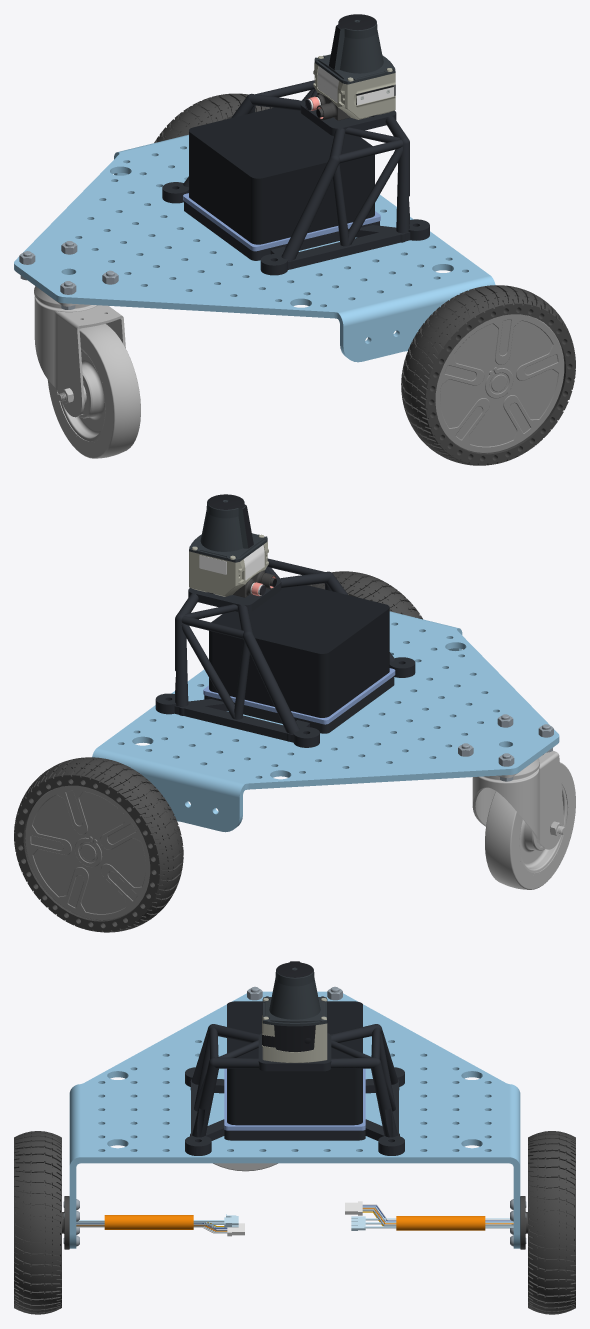
File: botwheel_pc_lidar_assembly.glb
3 views of the same model, one above another, from view 1: azimuth 30°, elevation 25°; view 2: azimuth 150°, elevation 25°; view 3: azimuth 270°, elevation 25° (orthographic). The views are drawn at different scales.
Parts seen in each view (by area): view 1: botwheel_explorer/Botwheel 2 Wheel Frame 500, minisforum_um890_pro_ref, botwheel_explorer/ODrive Botwheel <1>/ÂÖì±, pc_lidar_canopy, botwheel_explorer/ODrive Botwheel <1>/WHO.105002Ïð½ºÂÖÌ¥×°Åä, sick_tim781/NAUO1/NAUO2, botwheel_explorer/Part 1, botwheel_explorer/Part 52, botwheel_explorer/Part 2, botwheel_explorer/ODrive Botwheel <2>/WHO.105002Ïð½ºÂÖÌ¥×°Åä, um890_table_mount_stl_ref, sick_tim781/NAUO1/NAUO3; view 2: botwheel_explorer/Botwheel 2 Wheel Frame 500, minisforum_um890_pro_ref, botwheel_explorer/ODrive Botwheel <2>/ÂÖì±, pc_lidar_canopy, botwheel_explorer/ODrive Botwheel <2>/WHO.105002Ïð½ºÂÖÌ¥×°Åä, sick_tim781/NAUO1/NAUO2, botwheel_explorer/Part 52, botwheel_explorer/Part 1, botwheel_explorer/ODrive Botwheel <1>/WHO.105002Ïð½ºÂÖÌ¥×°Åä, botwheel_explorer/Part 2, um890_table_mount_stl_ref, sick_tim781/NAUO1/NAUO3; view 3: botwheel_explorer/Botwheel 2 Wheel Frame 500, pc_lidar_canopy, minisforum_um890_pro_ref, botwheel_explorer/ODrive Botwheel <2>/WHO.105002Ïð½ºÂÖÌ¥×°Åä, botwheel_explorer/ODrive Botwheel <1>/WHO.105002Ïð½ºÂÖÌ¥×°Åä, sick_tim781/NAUO1/NAUO2, botwheel_explorer/ODrive Botwheel <2>/LEW.105017--11P¶Ë×ÓÏß  (×2), botwheel_explorer/ODrive Botwheel <1>/LEW.105017--11P¶Ë×ÓÏß  (×2), um890_table_mount_stl_ref.
Part boxes in pixels (<box>): botwheel_explorer/Botwheel 2 Wheel Frame 500: <box>14,134,495,362</box>; minisforum_um890_pro_ref: <box>189,100,374,244</box>; botwheel_explorer/ODrive Botwheel <1>/ÂÖì±: <box>435,314,564,453</box>; pc_lidar_canopy: <box>162,80,429,275</box>; botwheel_explorer/ODrive Botwheel <1>/WHO.105002Ïð½ºÂÖÌ¥×°Åä: <box>401,285,575,465</box>; sick_tim781/NAUO1/NAUO2: <box>313,14,395,119</box>; botwheel_explorer/Part 1: <box>47,324,140,458</box>; botwheel_explorer/Part 52: <box>34,296,125,417</box>; botwheel_explorer/Part 2: <box>56,346,106,443</box>; botwheel_explorer/ODrive Botwheel <2>/WHO.105002Ïð½ºÂÖÌ¥×°Åä: <box>154,93,272,142</box>; um890_table_mount_stl_ref: <box>183,193,380,251</box>; sick_tim781/NAUO1/NAUO3: <box>305,92,350,120</box>; botwheel_explorer/Botwheel 2 Wheel Frame 500: <box>92,611,559,832</box>; minisforum_um890_pro_ref: <box>209,578,389,717</box>; botwheel_explorer/ODrive Botwheel <2>/ÂÖì±: <box>25,785,150,920</box>; pc_lidar_canopy: <box>155,558,415,747</box>; botwheel_explorer/ODrive Botwheel <2>/WHO.105002Ïð½ºÂÖÌ¥×°Åä: <box>14,757,183,932</box>; sick_tim781/NAUO1/NAUO2: <box>189,494,268,596</box>; botwheel_explorer/Part 52: <box>472,750,563,849</box>; botwheel_explorer/Part 1: <box>485,762,575,889</box>; botwheel_explorer/ODrive Botwheel <1>/WHO.105002Ïð½ºÂÖÌ¥×°Åä: <box>307,571,422,619</box>; botwheel_explorer/Part 2: <box>518,781,568,874</box>; um890_table_mount_stl_ref: <box>203,668,395,724</box>; sick_tim781/NAUO1/NAUO3: <box>233,570,276,597</box>; botwheel_explorer/Botwheel 2 Wheel Frame 500: <box>69,991,520,1248</box>; pc_lidar_canopy: <box>185,1024,404,1155</box>; minisforum_um890_pro_ref: <box>227,1001,362,1125</box>; botwheel_explorer/ODrive Botwheel <2>/WHO.105002Ïð½ºÂÖÌ¥×°Åä: <box>528,1131,575,1314</box>; botwheel_explorer/ODrive Botwheel <1>/WHO.105002Ïð½ºÂÖÌ¥×°Åä: <box>14,1131,61,1314</box>; sick_tim781/NAUO1/NAUO2: <box>262,961,327,1062</box>; botwheel_explorer/ODrive Botwheel <2>/LEW.105017--11P¶Ë×ÓÏß  (×2): <box>351,1216,513,1230</box>; botwheel_explorer/ODrive Botwheel <1>/LEW.105017--11P¶Ë×ÓÏß  (×2): <box>76,1214,238,1229</box>; um890_table_mount_stl_ref: <box>224,1068,365,1130</box>.
Size of the model in its own units: 0.4272 by 0.3465 by 0.5236.
